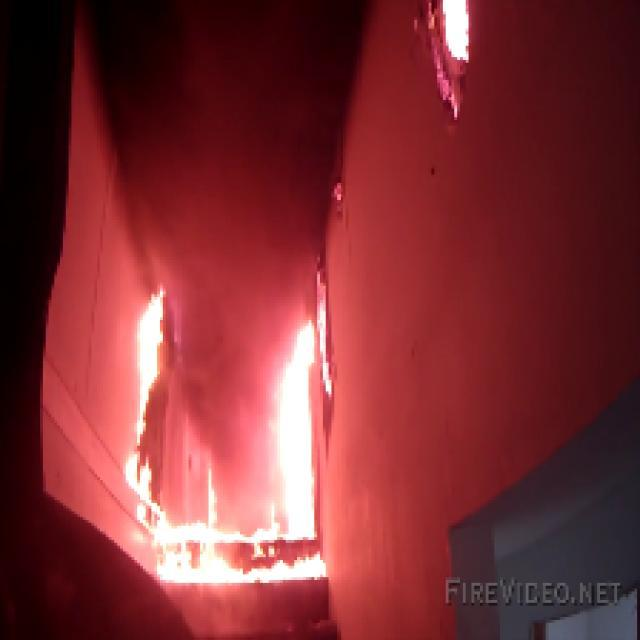Fire: (142, 528, 332, 594), (125, 299, 168, 512), (272, 331, 318, 523)
Smoke: (148, 60, 306, 280)
